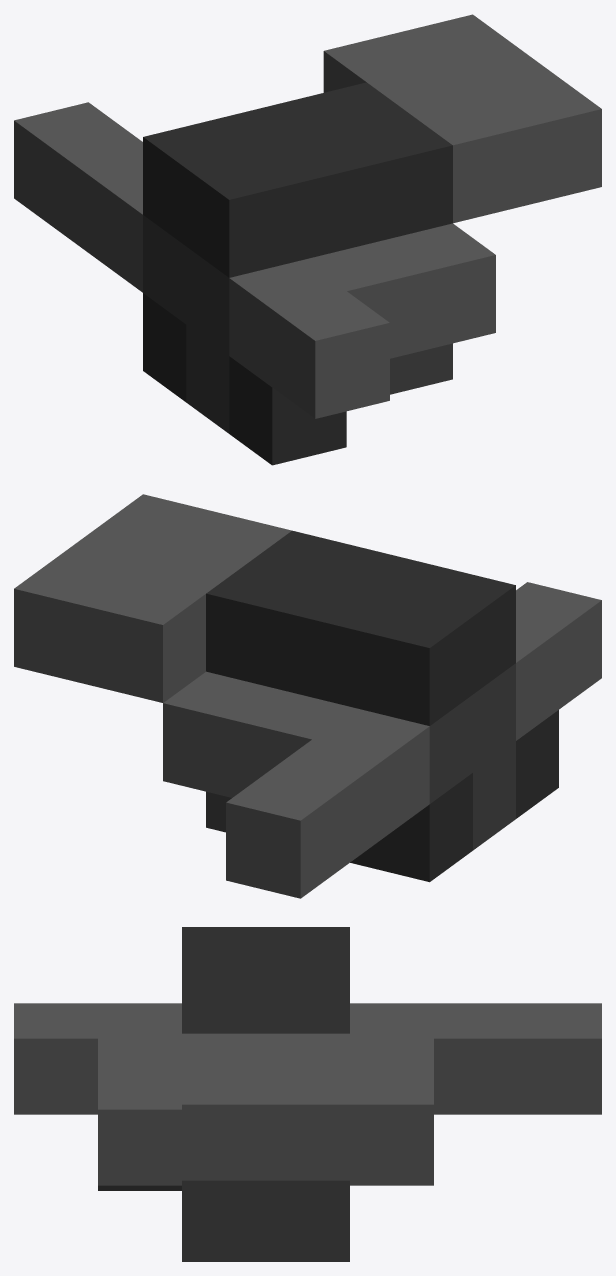
File: Extra-1-MicroRecon_Wing1_L.obj
3 views of the same model, one above another, from view 1: azimuth 30°, elevation 25°; view 2: azimuth 150°, elevation 25°; view 3: azimuth 270°, elevation 25° (orthographic). The views are drawn at different scales.
Parts seen in each view (by area): view 1: MicroRecon_Wing1_L; view 2: MicroRecon_Wing1_L; view 3: MicroRecon_Wing1_L.
Boxes of the visible parts, x1,y1,x2,y2 form: MicroRecon_Wing1_L: [14, 14, 601, 465]; MicroRecon_Wing1_L: [14, 494, 601, 898]; MicroRecon_Wing1_L: [14, 927, 601, 1261].
Bounding box in the file's own units: 0.5 × 0.3 × 0.7.
1 material, 1 textured.
